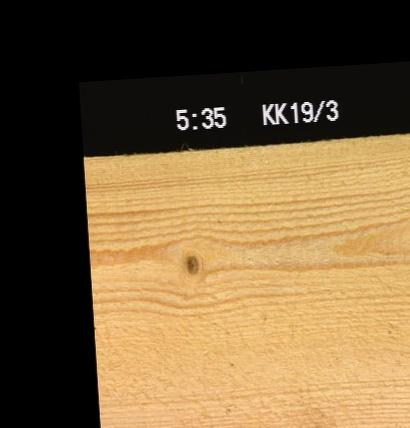sound_knot: (182, 252, 199, 274)
